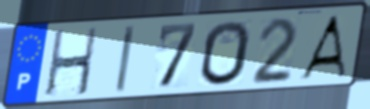2: (251, 15, 299, 86)
7: (156, 21, 201, 91)
A: (296, 13, 348, 80)
H: (43, 26, 100, 99)
I: (113, 23, 137, 95)
O: (199, 19, 253, 88)
